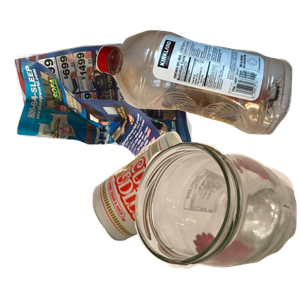glass: (132, 139, 300, 300)
paper: (12, 31, 196, 204)
plastic: (93, 27, 300, 154)
trash: (90, 129, 295, 300)
